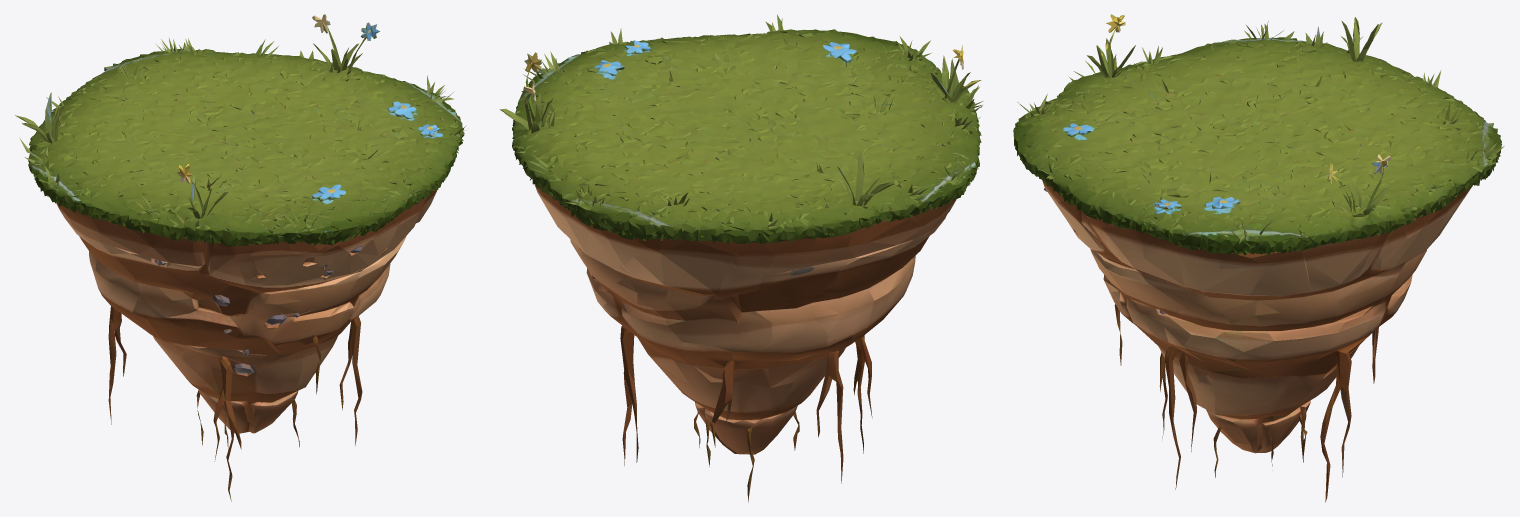
The model's file is island-base.glb.
3 views of the same model, side by side, from view 1: azimuth 30°, elevation 25°; view 2: azimuth 150°, elevation 25°; view 3: azimuth 270°, elevation 25° (orthographic). The views are drawn at different scales.
Bounding box in the file's own units: 1.93 × 1.7 × 1.9.
Materials: 1 (1 with a texture image).
